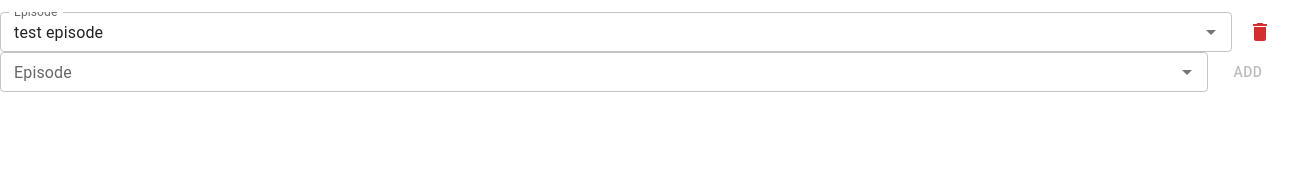
Episode list form component › should add episode to list
Type "test" into the 2nd dropdown labelled "Episode".
click(588, 72); type("test")  # box 6,58 -> 1169,86
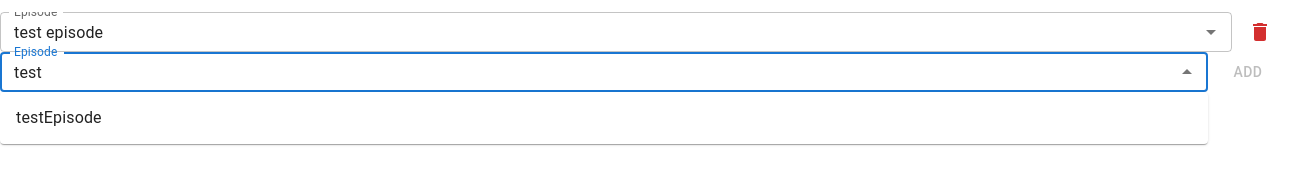
Click the option "testEpisode".
click(59, 118)  # box 16,108 -> 102,127
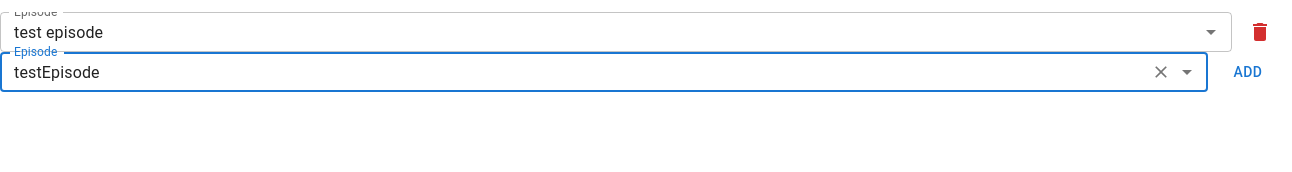
Click the button "Add".
click(1248, 72)  # box 1216,54 -> 1280,90
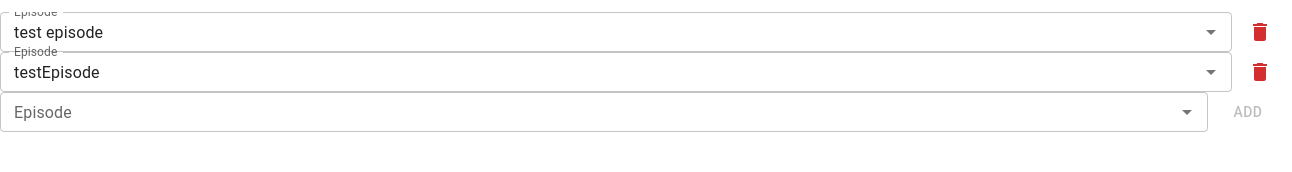
Expected: the 1st dropdown showing "test episode" is shown, 6,18 -> 1167,46
Expected: the 2nd dropdown showing "testEpisode" is shown, 6,58 -> 1167,86
